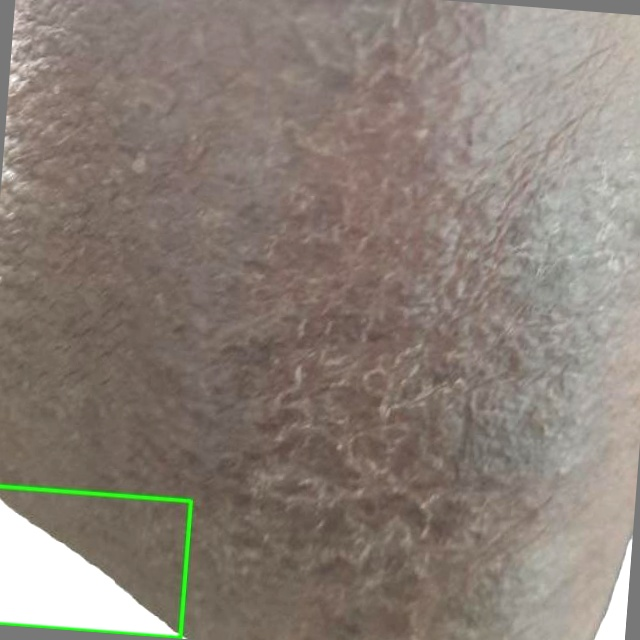Contact Dermatitis: (0, 486, 191, 637)
